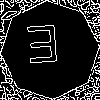E: (25, 25, 61, 73)
